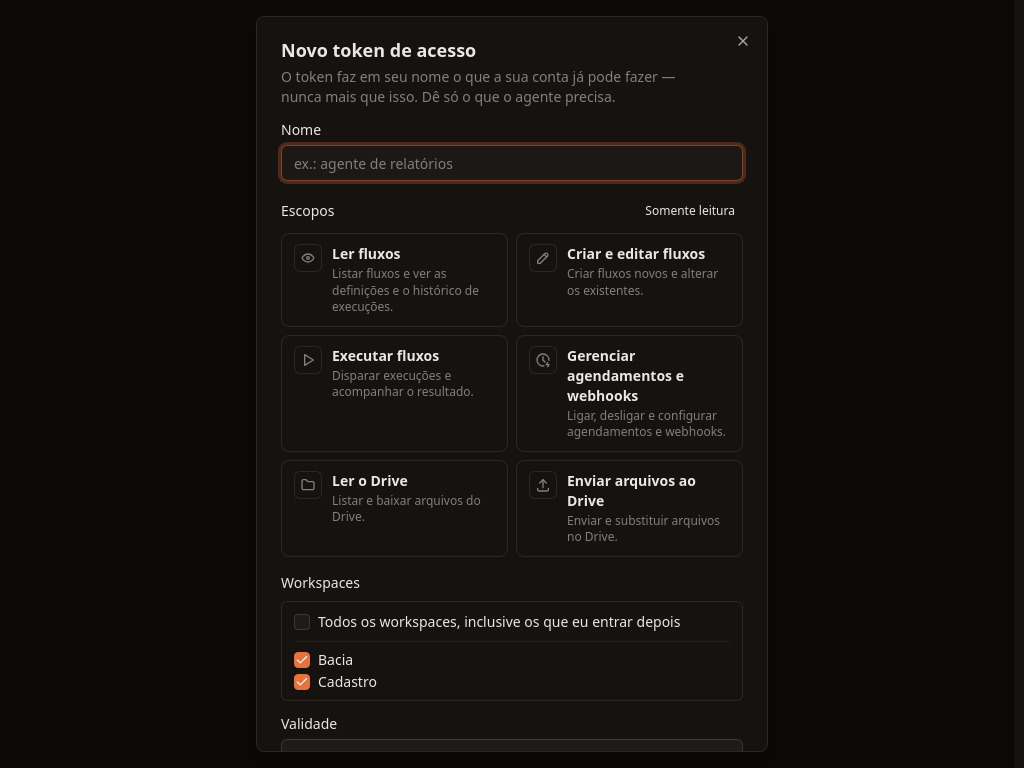
Test: CreateToken — passo 2 (segredo e conexão) › sem navigator.clipboard, avisa em vez de falhar em silêncio
In the field labelled "Nome": (512, 163) [281,145,743,181], type "Agente"
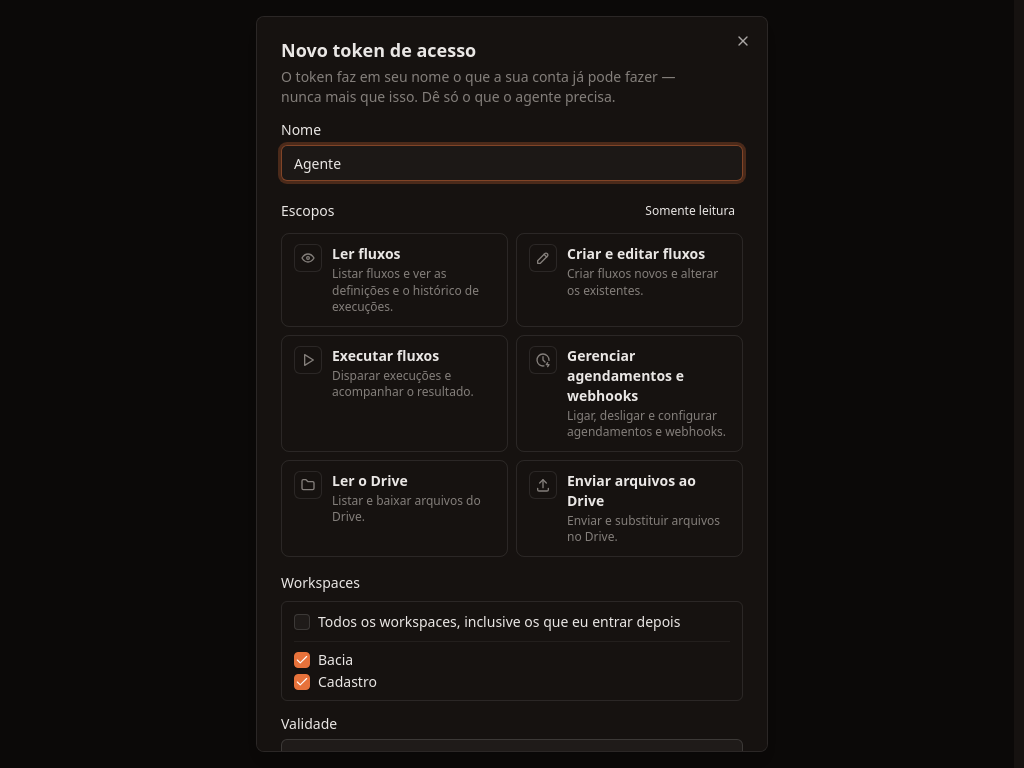
Click the button that starts with "Ler fluxos": (394, 280) [281,233,508,326]
(page scrolled)
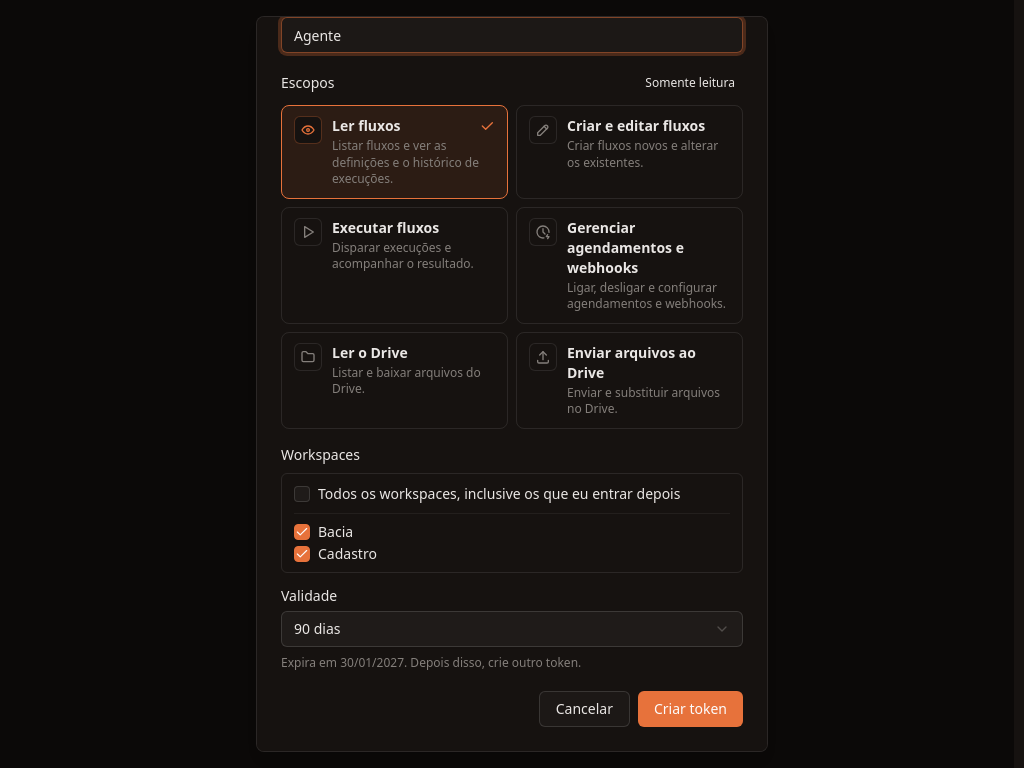
Click the button "Criar token": (690, 709) [638,691,743,727]
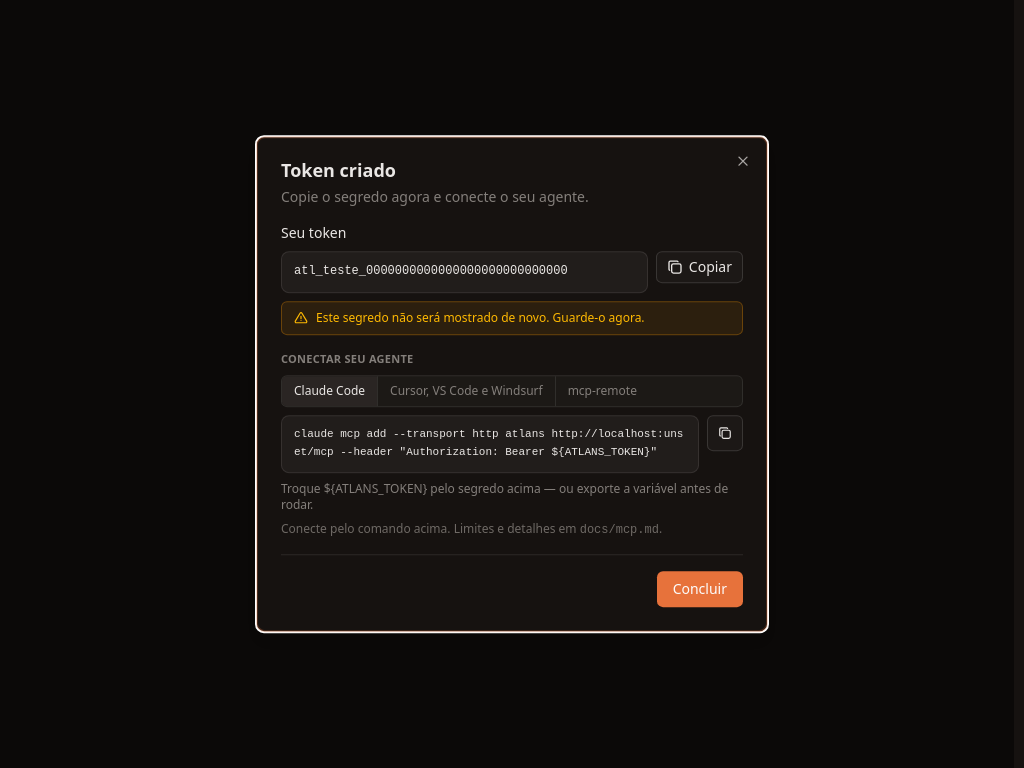
Click the button "Copiar": (699, 267) [656,251,743,283]
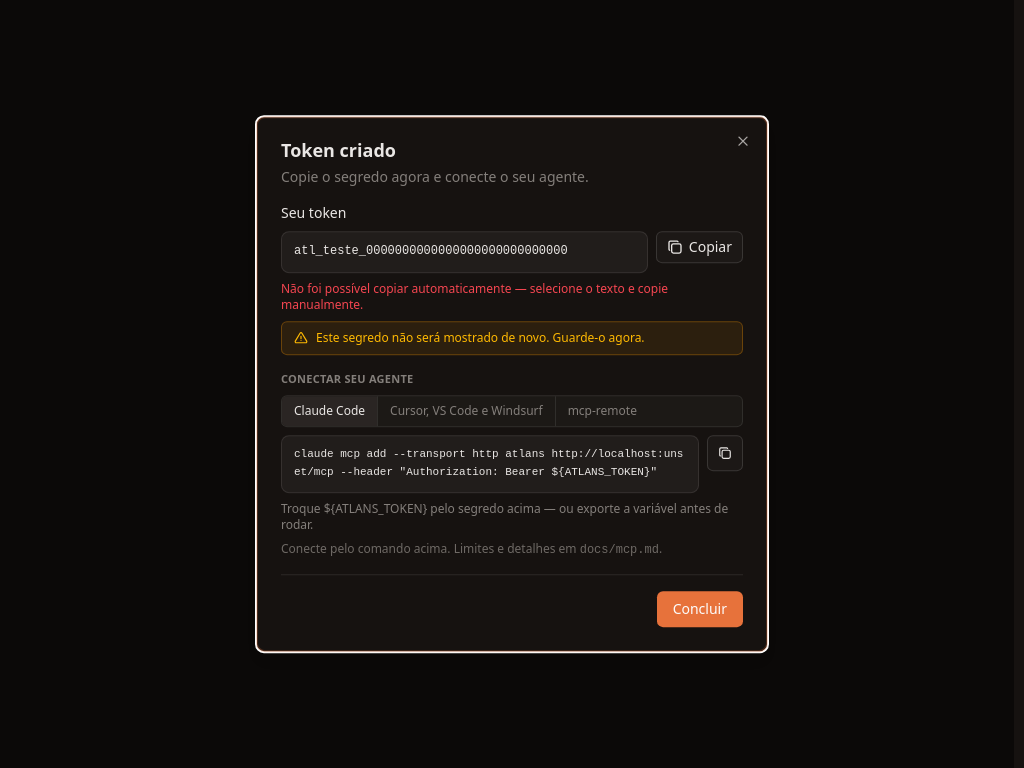
Expected: the 1st message shows "Não foi possível copiar automaticamente", [281,280,668,313]
